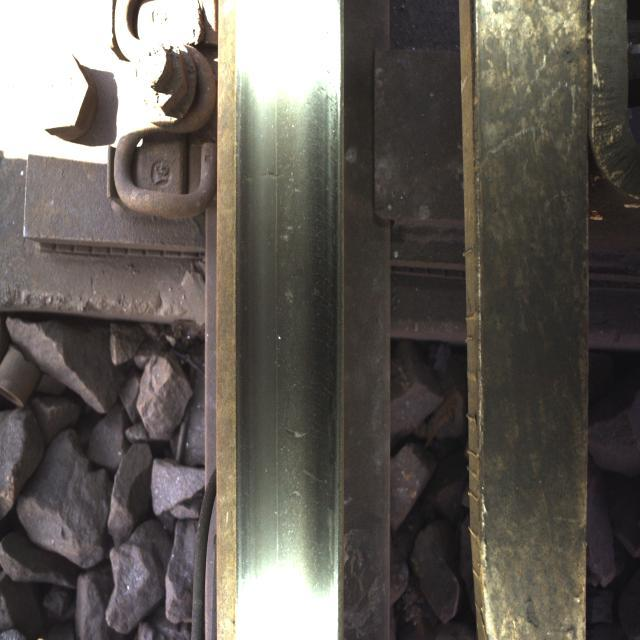normal: (241, 78, 325, 550)
